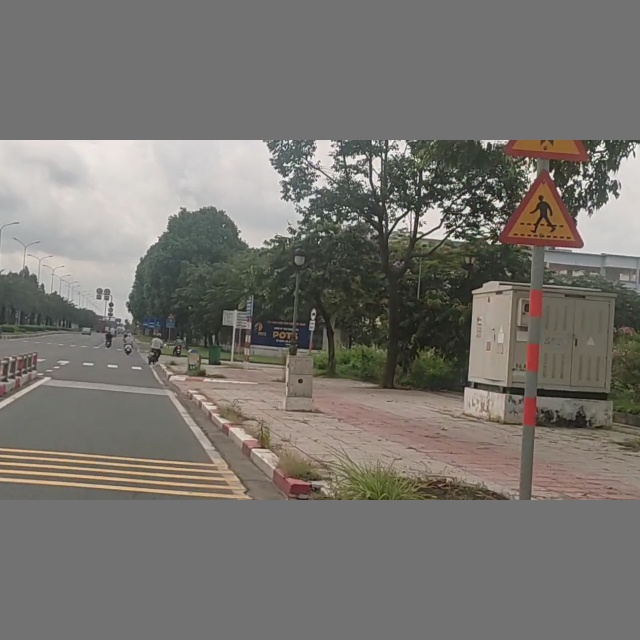W.224: (496, 169, 587, 251)
